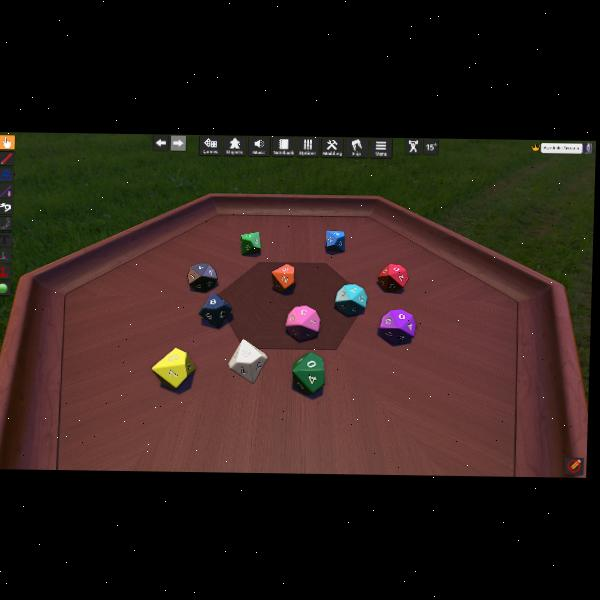d10: (152, 347, 196, 389), (228, 339, 269, 383), (291, 351, 325, 394), (379, 307, 415, 343), (199, 292, 233, 329), (285, 305, 319, 340), (334, 283, 366, 316), (186, 262, 217, 292), (378, 262, 406, 292), (271, 264, 295, 291), (240, 231, 262, 254), (325, 229, 345, 251)
